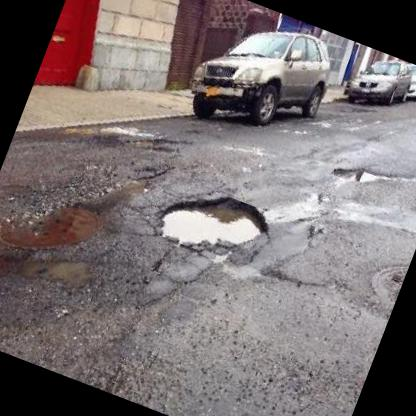pothole: (153, 173, 278, 276), (16, 235, 102, 302), (123, 117, 190, 165), (328, 156, 382, 194)
